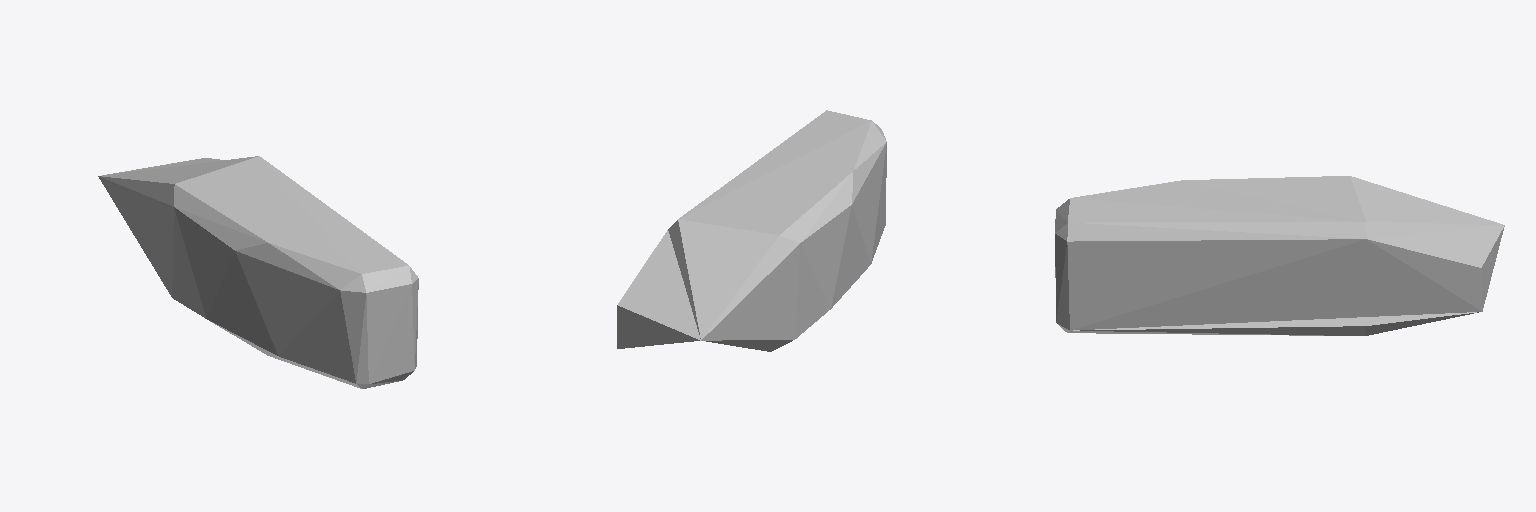
File: thumbtip_col.obj
3 renders of one model, left to right at view 1: azimuth 30°, elevation 25°; view 2: azimuth 150°, elevation 25°; view 3: azimuth 270°, elevation 25°, orthographic.
Size of the model in its own units: 0.0174 by 0.017 by 0.0593.